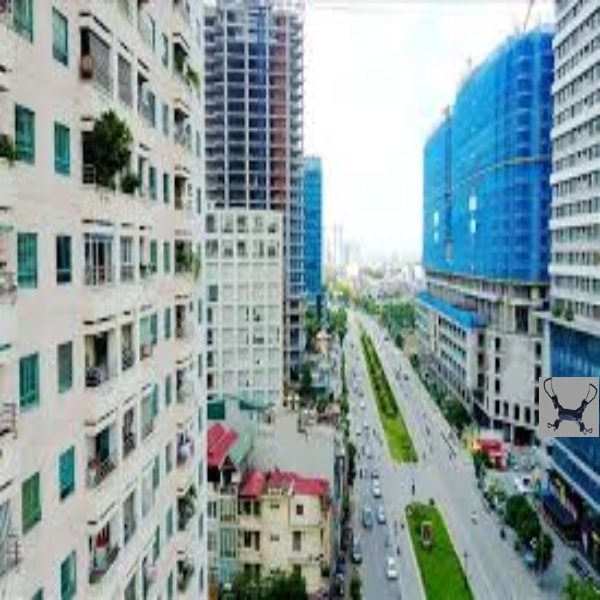drone: (539, 378, 600, 440)
